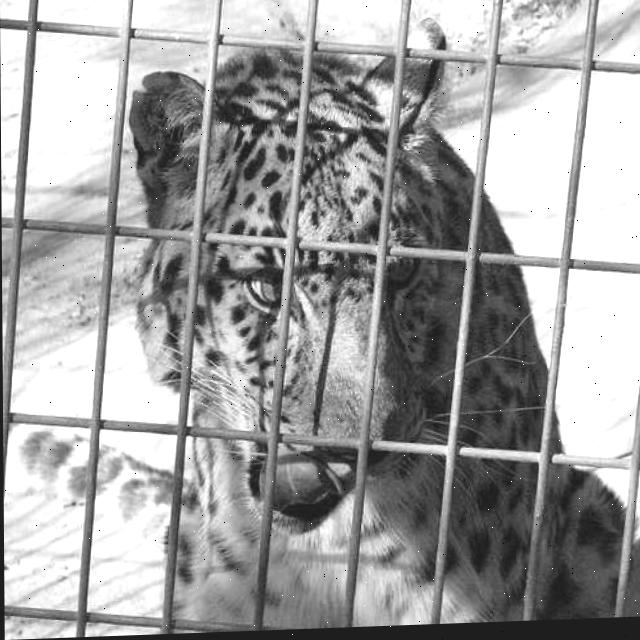Leopard: (0, 7, 640, 638)
